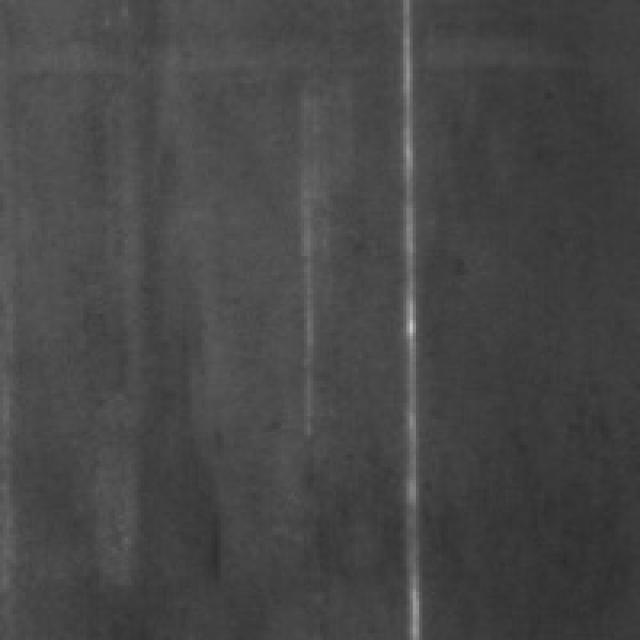scratches: (397, 3, 438, 637)
